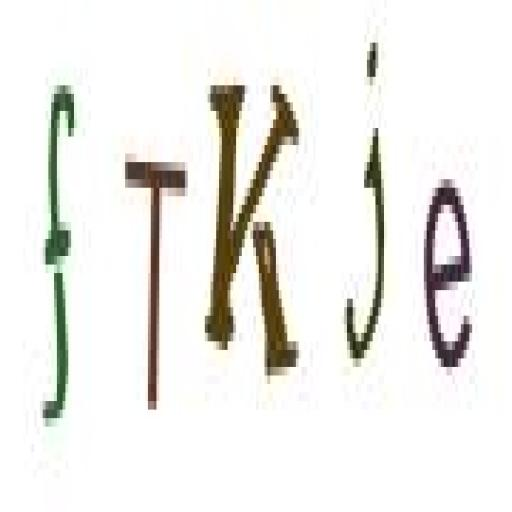K: (207, 66, 302, 380)
T: (120, 141, 195, 426)
e: (421, 168, 476, 392)
f: (40, 79, 81, 442)
j: (347, 39, 387, 382)
